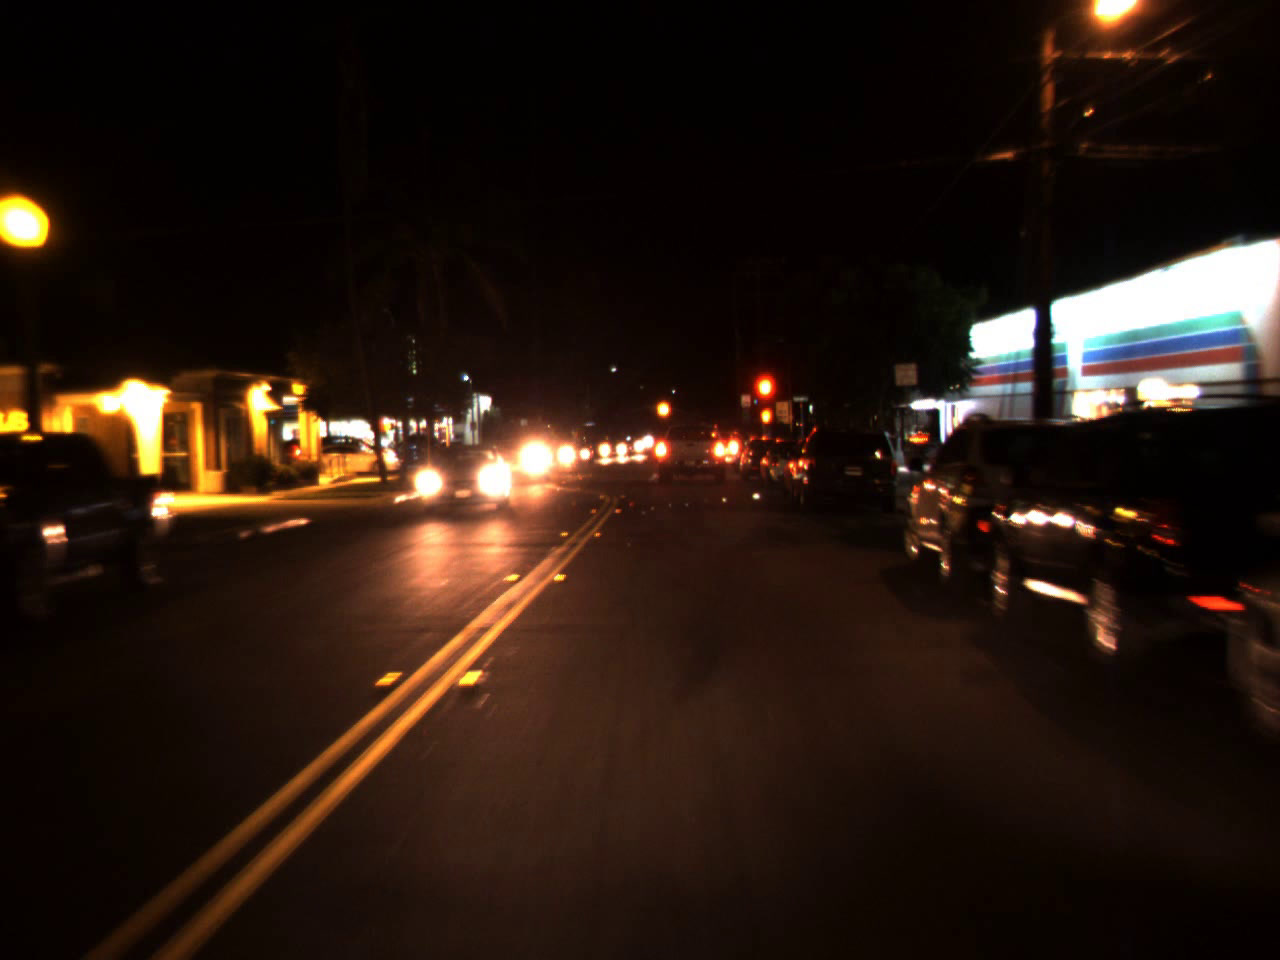stop: (749, 370, 780, 434)
warning: (653, 390, 674, 427)
